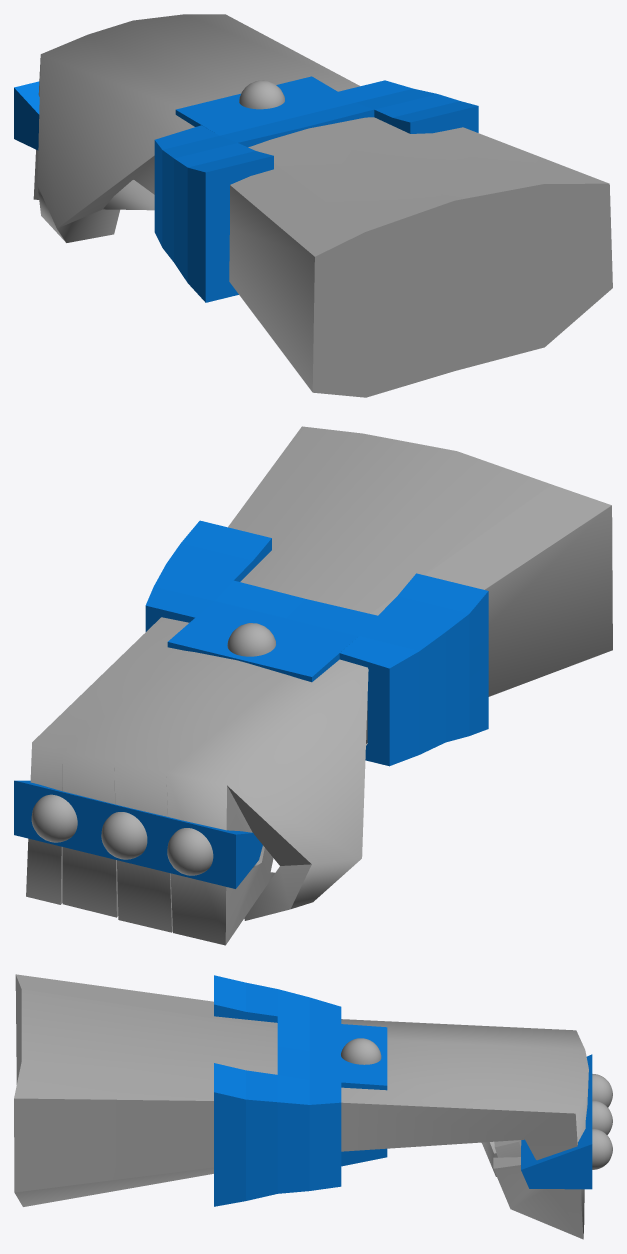
File: Right_Fist.fbx
3 views of the same model, one above another, from view 1: azimuth 30°, elevation 25°; view 2: azimuth 150°, elevation 25°; view 3: azimuth 270°, elevation 25° (orthographic). The views are drawn at different scales.
Parts seen in each view (by area): view 1: Right_Fist; view 2: Right_Fist; view 3: Right_Fist.
Boxes of the visible parts, left/top/right/bottom form: Right_Fist: left=14, top=14, right=612, bottom=397; Right_Fist: left=14, top=426, right=612, bottom=945; Right_Fist: left=14, top=974, right=612, bottom=1239.
Bounding box in the file's own units: 1.42 × 0.9491 × 2.72.
